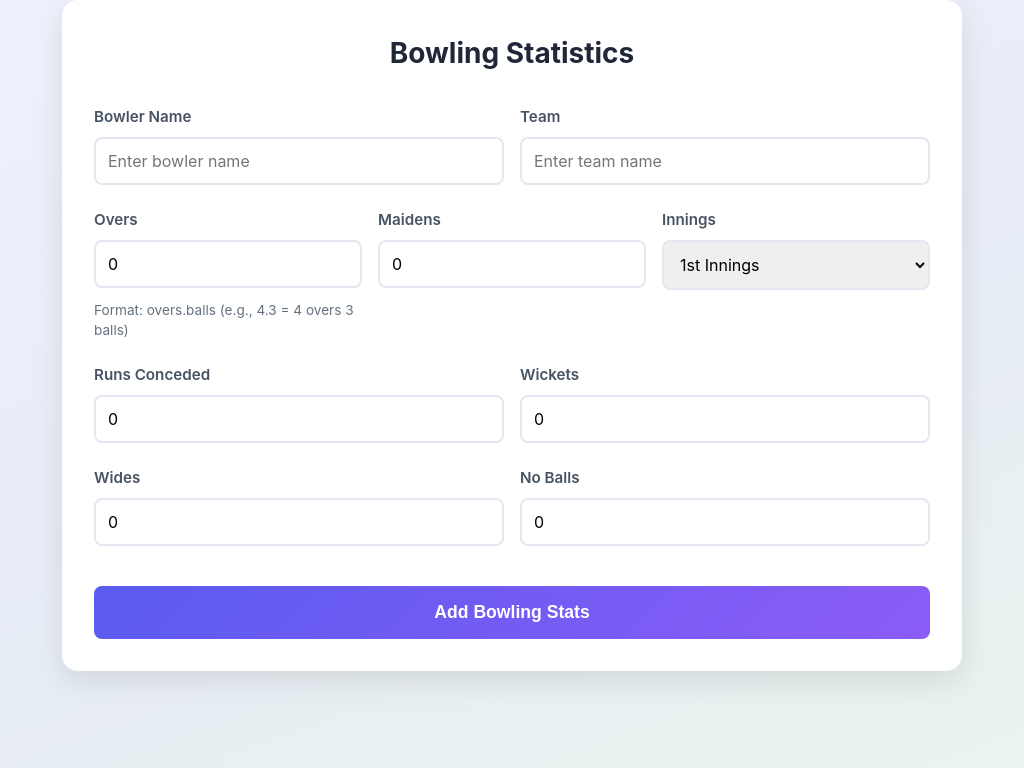
Test case: BowlingStats calculations › shows economy rate when overs are entered
Replace the text in the number field labelled "Overs" with "10" at (228, 264), box [94, 240, 362, 288]
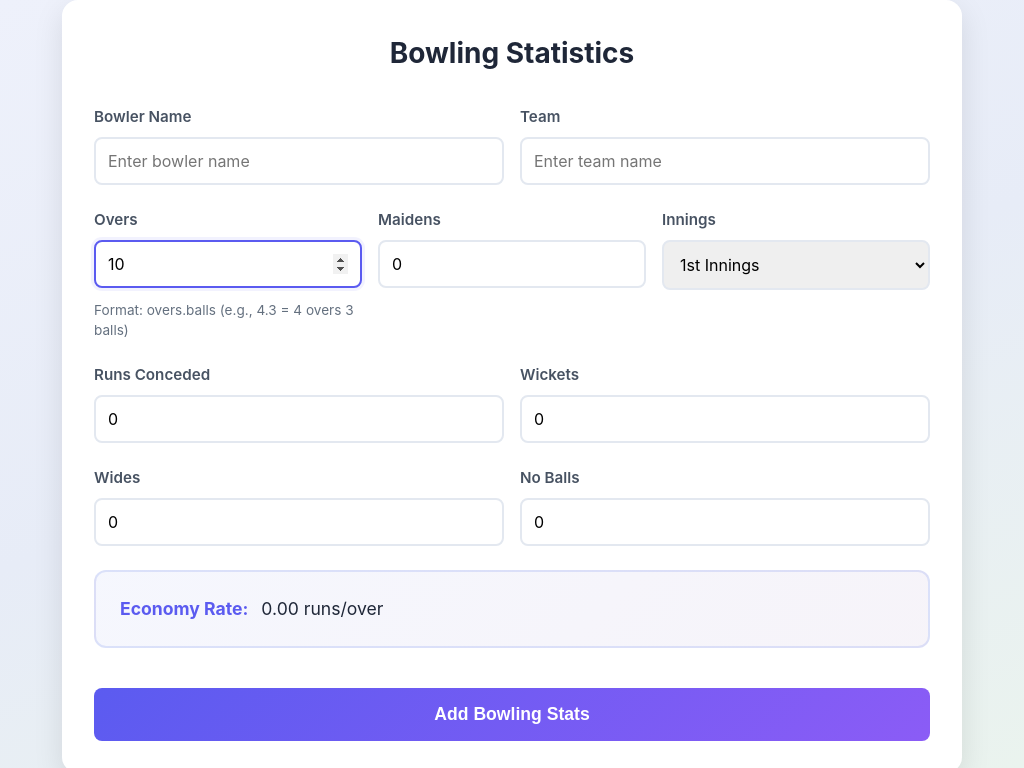
Replace the text in the number field labelled "Runs Conceded" with "40" at (299, 419), box [94, 395, 504, 443]
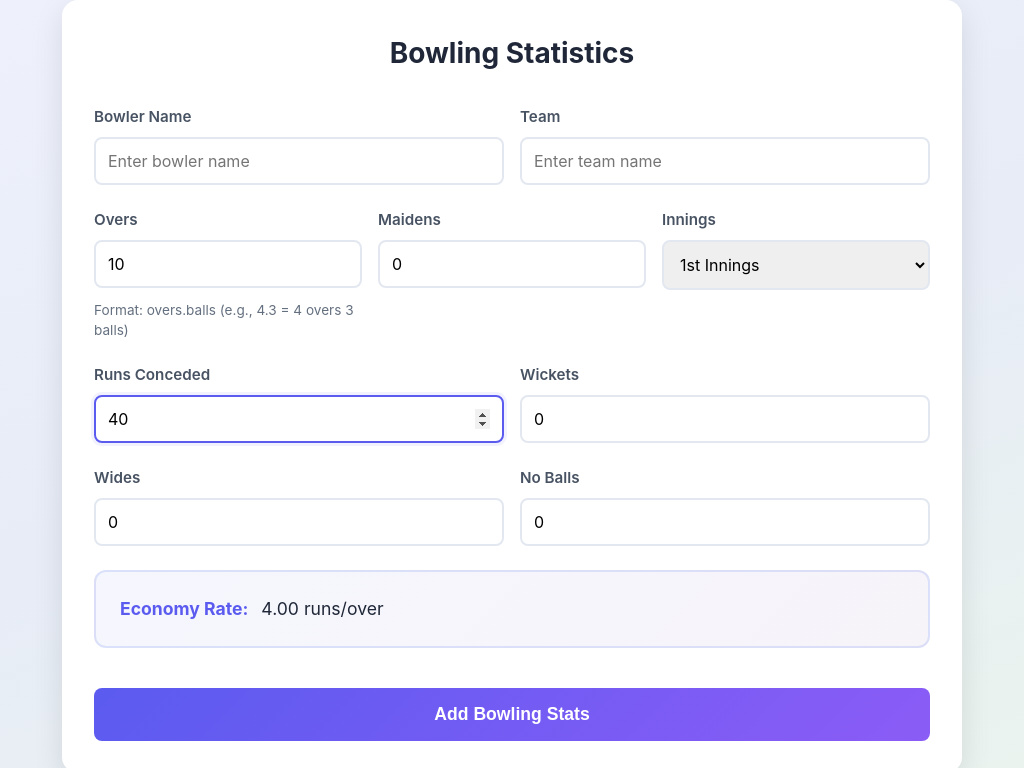
expect the text "Economy Rate:" is shown: met, box [120, 598, 248, 619]
expect the text "Economy Rate: 4.00 runs/over" is shown: met, box [120, 596, 384, 622]
